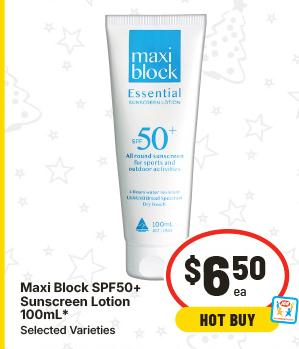description_block: (17, 276, 143, 324)
price_main: (164, 225, 287, 304)
product_image_block: (87, 13, 209, 286)
promo_text_block: (163, 307, 285, 336)
